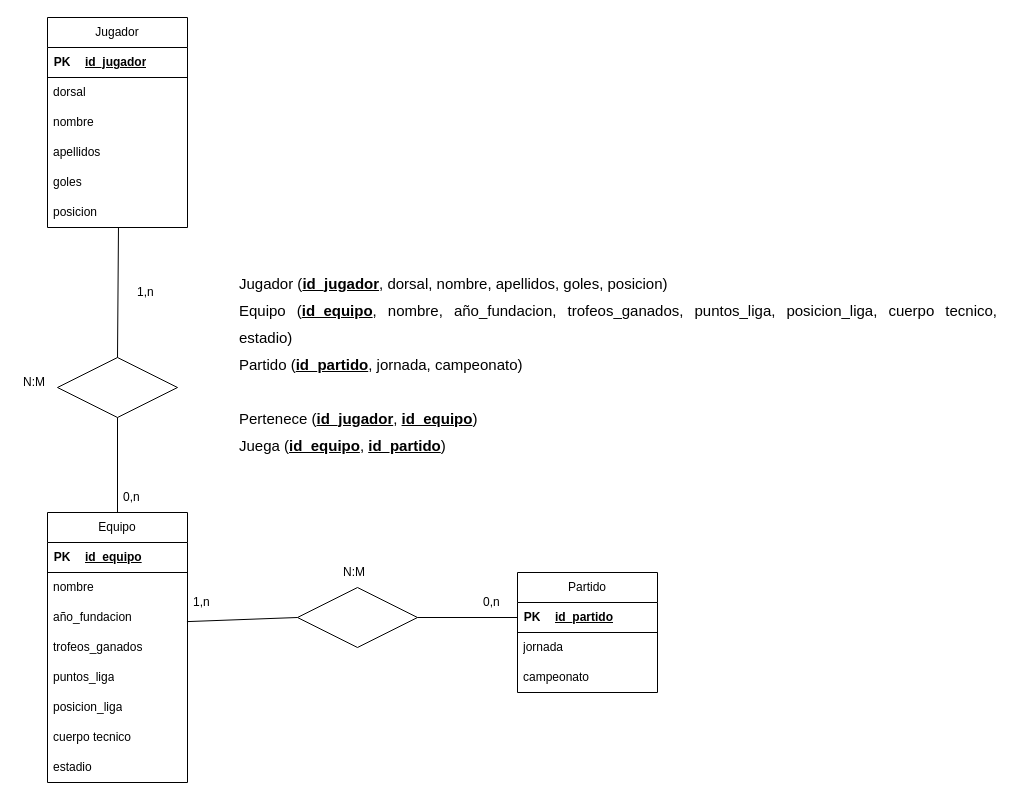
Image size: 1015x800. Some labels were removed from this diagram. Each missing label, with the centre of its shape:
"Juega" goes at pixel 357 617.
"Pertenece" goes at pixel 117 387.
